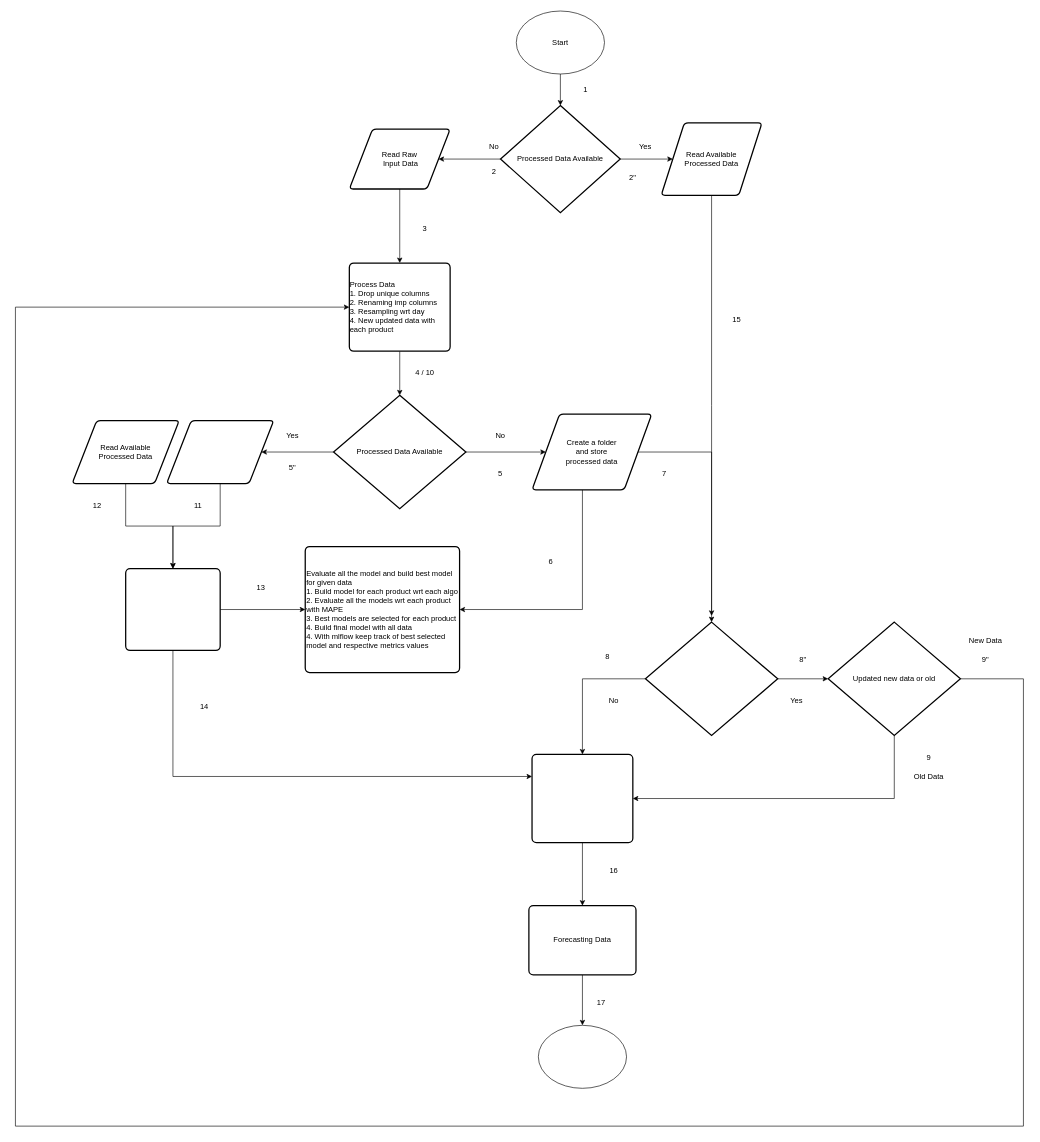
Some shapes in this 1040 by 1142 pixel diagram are drawn without their labels. Each missing label, with the centre of its shape:
"Best Model Selection from all the availble model in mlflow folder" belongs at [582,798].
"Concat Availble and New Data and update" belongs at [172,609].
"End" belongs at [582,1056].
"New Data Available" belongs at [711,678].
"Read New Processed Data" belongs at [220,452].
